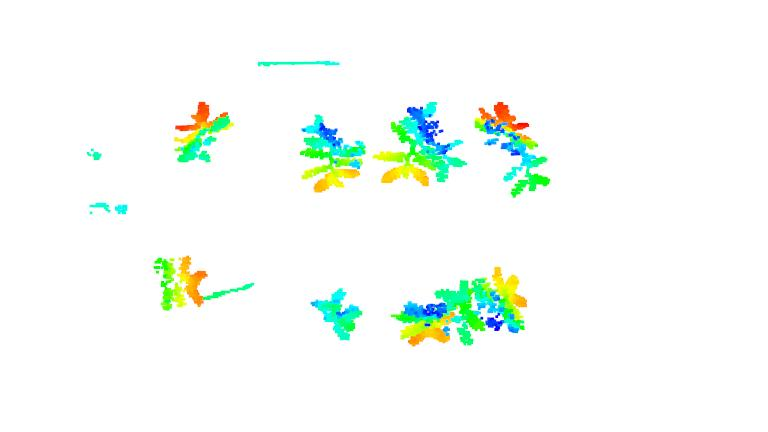chickpea: (471, 99, 551, 199), (376, 100, 468, 186), (432, 267, 532, 344), (299, 113, 366, 194), (173, 100, 234, 165), (151, 254, 207, 311), (394, 297, 454, 348), (310, 286, 364, 342)
